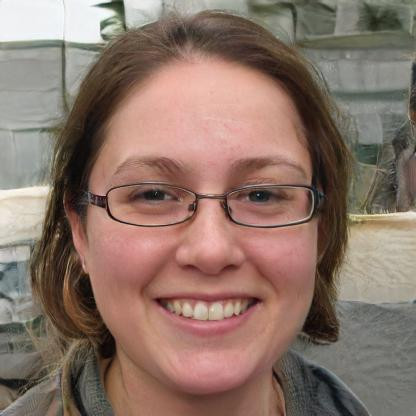glasses: (98, 176, 322, 232)
